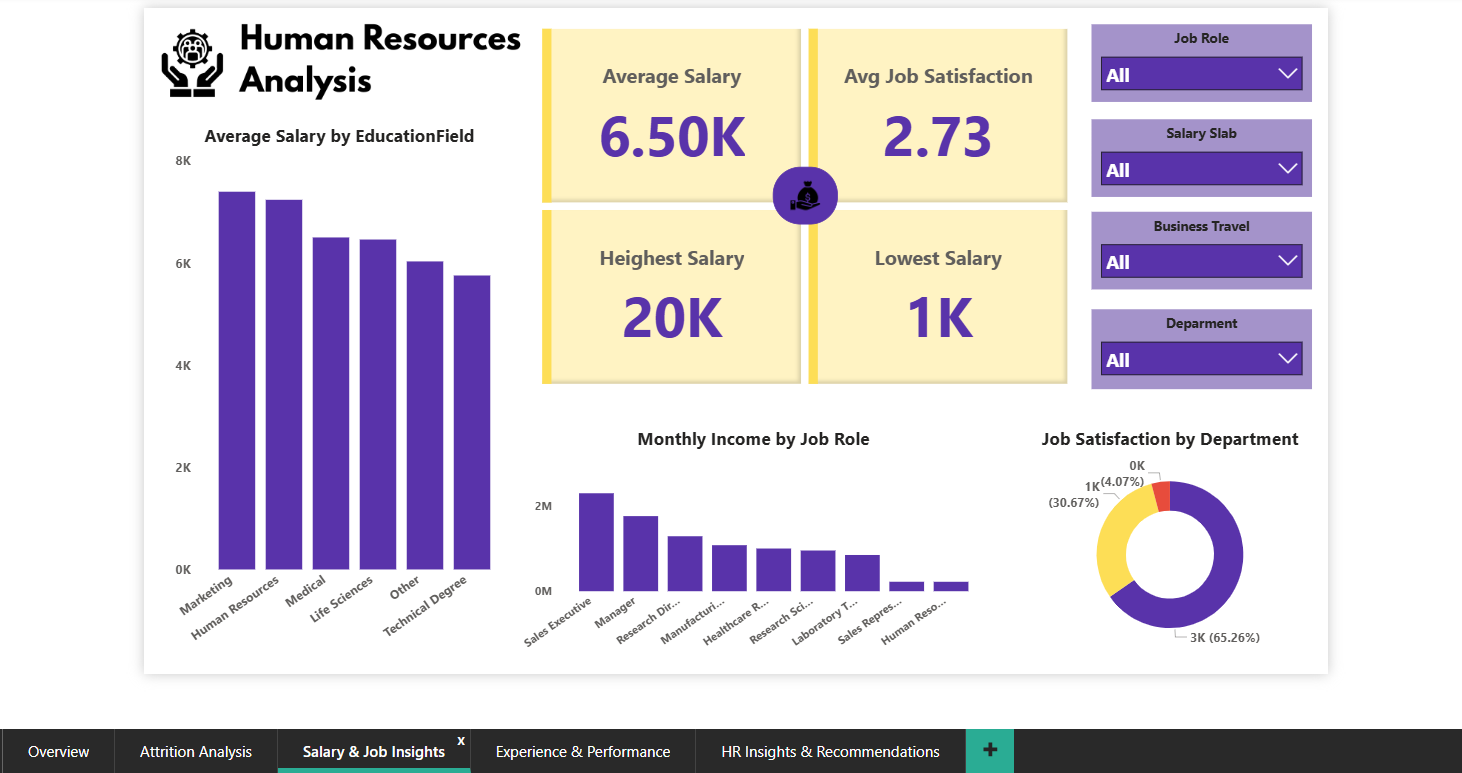

The dashboard page shown, as its layout file describes it:
{"tool":"powerbi","page":{"name":"Salary & Job Insights","canvas":[1280,720],"ordinal":2},"visuals":[{"type":"lineClusteredColumnComboChart","title":"Monthly Income by Job Role","fields":{"Category":["Job_Details.JobRole"],"Y":["Sum(Salary_Details.MonthlyIncome)"]},"box":[401.1,447.3,515.1,256.8],"z":0},{"type":"clusteredColumnChart","fields":{"Category":["Employees.EducationField"],"Y":["Salary_Details.Average Salary"]},"box":[21.6,119.7,379.4,584.3],"z":1000},{"type":"donutChart","title":"Job Satisfaction by Department","fields":{"Category":["Job_Details.Department"],"Y":["Sum(Job_Details.JobSatisfaction)"]},"box":[950.8,447.3,316,256.8],"z":2000},{"type":"slicer","title":"Job Role","fields":{"Values":["Job_Details.JobRole"]},"box":[1024.4,17.3,238.1,83.7],"z":3000},{"type":"slicer","title":"Salary Slab","fields":{"Values":["Salary_Details.SalarySlab"]},"box":[1024.4,119.7,238.1,83.7],"z":4000},{"type":"slicer","title":"Business Travel","fields":{"Values":["Job_Details.BusinessTravel"]},"box":[1024.4,220.7,238.1,83.7],"z":5000},{"type":"slicer","title":"Deparment","fields":{"Values":["Job_Details.Department"]},"box":[1024.4,326.1,238.1,86.6],"z":6000},{"type":"cardVisual","fields":{"Data":["Salary_Details.Average Salary","Job_Details.Avg Job Satisfaction","Salary_Details.Heighest Salary","Salary_Details.Lowest Salary"]},"box":[425.6,17.3,580,395.3],"z":7000},{"type":"image","box":[679.5,171.7,70,62],"z":8000}]}

Visuals, with their boxes on the page's 1280x720 design canvas (x1, y1, x2, y2). These are canvas units, not pixel positions in the 1462x773 screenshot, which may show the page scaled, cropped or inside an application window:
"Monthly Income by Job Role" lineClusteredColumnComboChart: BBox(401, 447, 916, 704)
clusteredColumnChart - Employees.EducationField x Salary_Details.Average Salary: BBox(22, 120, 401, 704)
"Job Satisfaction by Department" donutChart: BBox(951, 447, 1267, 704)
"Job Role" slicer: BBox(1024, 17, 1262, 101)
"Salary Slab" slicer: BBox(1024, 120, 1262, 203)
"Business Travel" slicer: BBox(1024, 221, 1262, 304)
"Deparment" slicer: BBox(1024, 326, 1262, 413)
cardVisual - Salary_Details.Average Salary x Job_Details.Avg Job Satisfaction: BBox(426, 17, 1006, 413)
image: BBox(680, 172, 750, 234)
